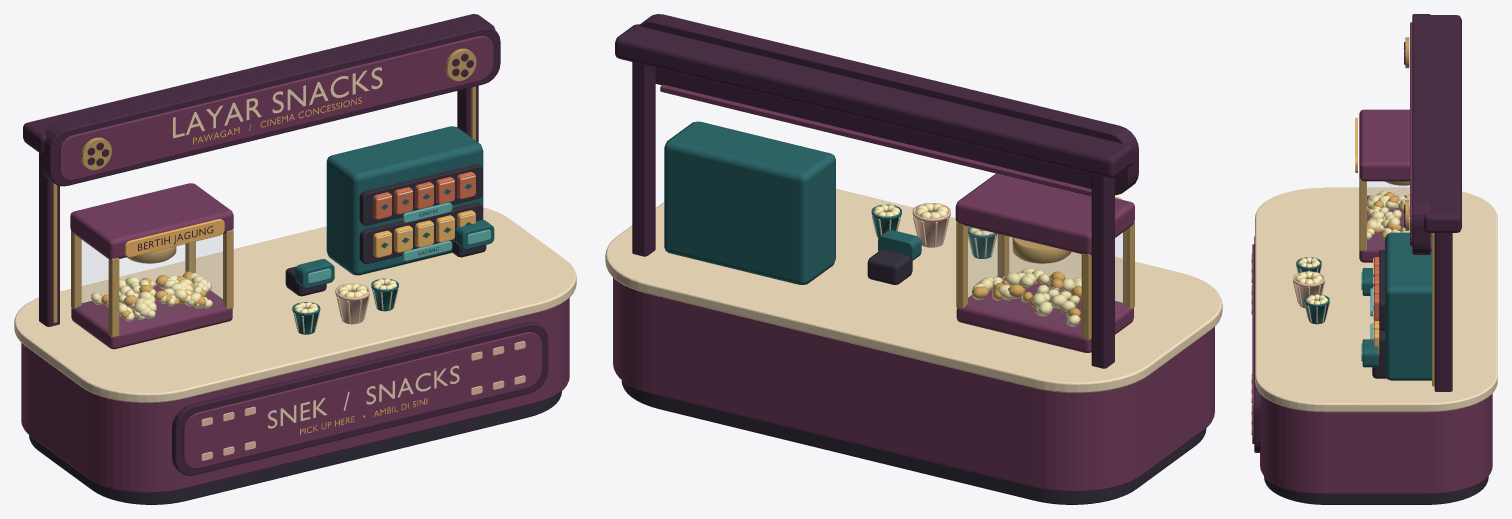
3 views of the same model, side by side, from view 1: azimuth 30°, elevation 25°; view 2: azimuth 150°, elevation 25°; view 3: azimuth 270°, elevation 25° (orthographic). The views are drawn at different scales.
Visible parts, largest first — view 1: Layar Snacks | Cinema Concession Island - Counter, Layar Snacks | Cinema Concession Island - Marquee, Layar Snacks | Cinema Concession Island - Snack Rack, Layar Snacks | Cinema Concession Island - Warmer, Layar Snacks | Cinema Concession Island - Kernels, Layar Snacks | Cinema Concession Island - Glazing, Layar Snacks | Cinema Concession Island - POS, Layar Snacks | Cinema Concession Island - Retail Snacks, Layar Snacks | Cinema Concession Island - Graphics; view 2: Layar Snacks | Cinema Concession Island - Counter, Layar Snacks | Cinema Concession Island - Marquee, Layar Snacks | Cinema Concession Island - Snack Rack, Layar Snacks | Cinema Concession Island - Warmer, Layar Snacks | Cinema Concession Island - Kernels, Layar Snacks | Cinema Concession Island - Lighting, Layar Snacks | Cinema Concession Island - Glazing, Layar Snacks | Cinema Concession Island - POS, Layar Snacks | Cinema Concession Island - Retail Snacks; view 3: Layar Snacks | Cinema Concession Island - Counter, Layar Snacks | Cinema Concession Island - Marquee, Layar Snacks | Cinema Concession Island - Snack Rack, Layar Snacks | Cinema Concession Island - Warmer, Layar Snacks | Cinema Concession Island - Kernels, Layar Snacks | Cinema Concession Island - Retail Snacks, Layar Snacks | Cinema Concession Island - POS, Layar Snacks | Cinema Concession Island - Glazing.
Boxes of the visible parts, left/top/right/bottom form: Layar Snacks | Cinema Concession Island - Counter: left=14, top=207, right=576, bottom=504; Layar Snacks | Cinema Concession Island - Marquee: left=23, top=14, right=500, bottom=326; Layar Snacks | Cinema Concession Island - Snack Rack: left=326, top=126, right=483, bottom=275; Layar Snacks | Cinema Concession Island - Warmer: left=70, top=183, right=233, bottom=349; Layar Snacks | Cinema Concession Island - Kernels: left=91, top=271, right=396, bottom=321; Layar Snacks | Cinema Concession Island - Glazing: left=82, top=234, right=222, bottom=303; Layar Snacks | Cinema Concession Island - POS: left=285, top=220, right=494, bottom=296; Layar Snacks | Cinema Concession Island - Retail Snacks: left=292, top=278, right=398, bottom=334; Layar Snacks | Cinema Concession Island - Graphics: left=268, top=183, right=471, bottom=434; Layar Snacks | Cinema Concession Island - Counter: left=605, top=188, right=1222, bottom=504; Layar Snacks | Cinema Concession Island - Marquee: left=615, top=14, right=1138, bottom=368; Layar Snacks | Cinema Concession Island - Snack Rack: left=664, top=121, right=835, bottom=284; Layar Snacks | Cinema Concession Island - Warmer: left=955, top=173, right=1134, bottom=352; Layar Snacks | Cinema Concession Island - Kernels: left=873, top=203, right=1081, bottom=326; Layar Snacks | Cinema Concession Island - Lighting: left=660, top=84, right=1091, bottom=196; Layar Snacks | Cinema Concession Island - Glazing: left=968, top=227, right=1122, bottom=302; Layar Snacks | Cinema Concession Island - POS: left=867, top=230, right=921, bottom=284; Layar Snacks | Cinema Concession Island - Retail Snacks: left=871, top=203, right=996, bottom=258; Layar Snacks | Cinema Concession Island - Counter: left=1251, top=187, right=1497, bottom=504; Layar Snacks | Cinema Concession Island - Marquee: left=1404, top=14, right=1461, bottom=391; Layar Snacks | Cinema Concession Island - Snack Rack: left=1370, top=232, right=1431, bottom=380; Layar Snacks | Cinema Concession Island - Warmer: left=1355, top=109, right=1409, bottom=262; Layar Snacks | Cinema Concession Island - Kernels: left=1295, top=191, right=1409, bottom=304; Layar Snacks | Cinema Concession Island - Retail Snacks: left=1293, top=257, right=1329, bottom=324; Layar Snacks | Cinema Concession Island - POS: left=1361, top=268, right=1386, bottom=378; Layar Snacks | Cinema Concession Island - Glazing: left=1367, top=182, right=1409, bottom=195.
Bounding box in the file's own units: 4.5 × 2.85 × 2.16.
